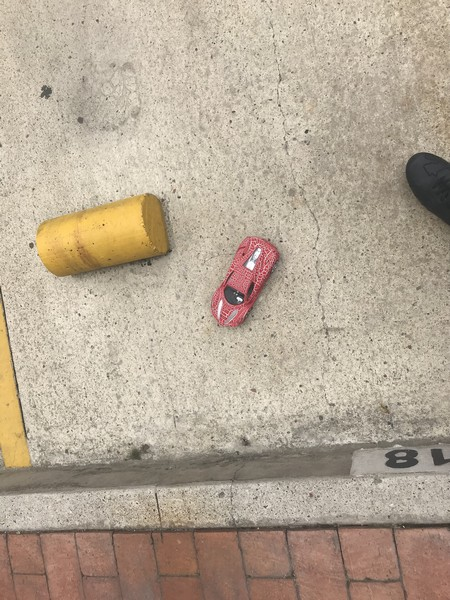RC: (209, 237, 279, 330)
